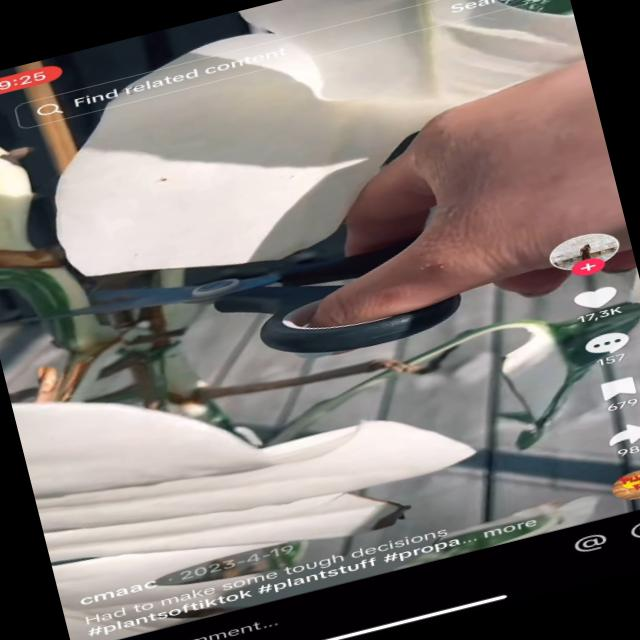lisc_variegata: (53, 0, 585, 278), (11, 402, 479, 640), (424, 302, 640, 450), (391, 494, 600, 571), (498, 0, 574, 14)
roslina_variegata: (0, 0, 640, 640)
